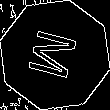M_E: (25, 26, 85, 84)
